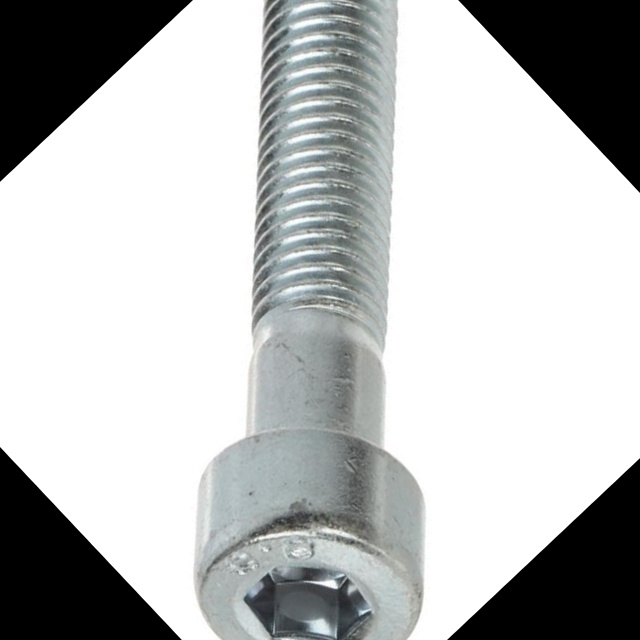allen: (230, 528, 389, 640)
